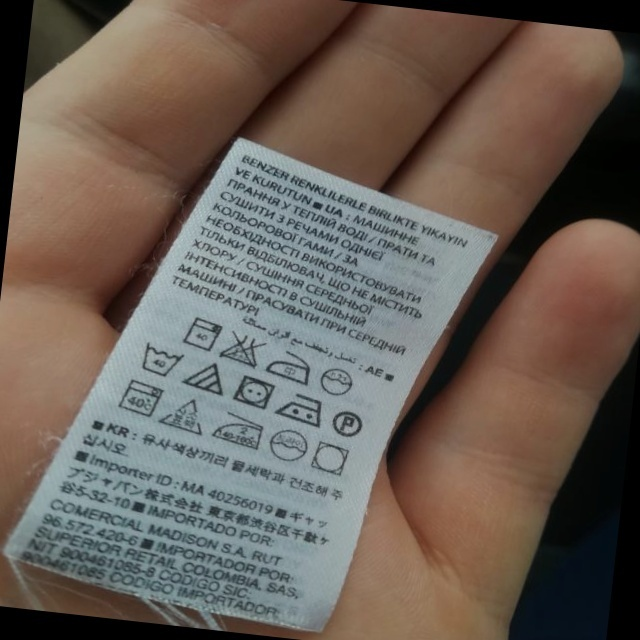40C: (140, 340, 187, 380), (121, 377, 164, 420), (185, 314, 224, 354)
dry_clean: (268, 426, 312, 464), (318, 364, 358, 400)
dry_clean_any_solvent_except_trichloroethylene: (331, 407, 366, 439)
iron: (266, 349, 315, 384)
iron_medium: (212, 412, 268, 451), (278, 391, 326, 427)
non_chlorine_bleach: (163, 397, 209, 438), (185, 360, 230, 397)
tumble_dry_medium: (232, 372, 279, 411)
tumble_dry_normal: (309, 440, 353, 480)
